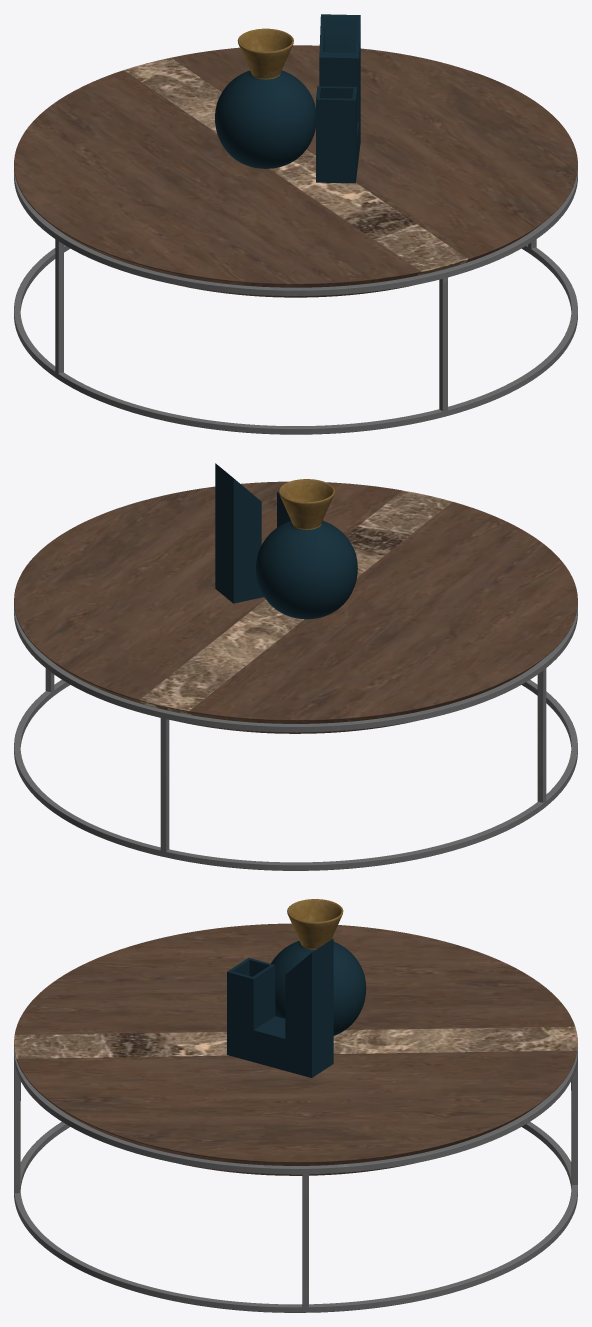
Rendered from coffee_table_giotto_c_digital_mhc.glb.
The picture shows the model from 3 angles, top to bottom: view 1: azimuth 30°, elevation 25°; view 2: azimuth 150°, elevation 25°; view 3: azimuth 270°, elevation 25°; orthographic projection.
Visible parts, largest first — view 1: 1_low_Giotto-C_0, Vase_cyan_small.001_Ceramic_dark_cyan.001_0, Vase_6_cyan.001_Ceramic_dark_cyan.002_0, Vase_cyan_small.001_Nickel_chrome.002_0; view 2: 1_low_Giotto-C_0, Vase_cyan_small.001_Ceramic_dark_cyan.001_0, Vase_6_cyan.001_Ceramic_dark_cyan.002_0, Vase_cyan_small.001_Nickel_chrome.002_0; view 3: 1_low_Giotto-C_0, Vase_6_cyan.001_Ceramic_dark_cyan.002_0, Vase_cyan_small.001_Ceramic_dark_cyan.001_0, Vase_cyan_small.001_Nickel_chrome.002_0.
Part boxes in pixels (x1=…): 1_low_Giotto-C_0: x1=14, y1=45, x2=577, y2=434; Vase_cyan_small.001_Ceramic_dark_cyan.001_0: x1=215, y1=70, x2=315, y2=168; Vase_6_cyan.001_Ceramic_dark_cyan.002_0: x1=316, y1=14, x2=360, y2=183; Vase_cyan_small.001_Nickel_chrome.002_0: x1=237, y1=28, x2=293, y2=79; 1_low_Giotto-C_0: x1=14, y1=481, x2=577, y2=870; Vase_cyan_small.001_Ceramic_dark_cyan.001_0: x1=256, y1=521, x2=357, y2=619; Vase_6_cyan.001_Ceramic_dark_cyan.002_0: x1=215, y1=463, x2=323, y2=603; Vase_cyan_small.001_Nickel_chrome.002_0: x1=278, y1=479, x2=334, y2=529; 1_low_Giotto-C_0: x1=14, y1=923, x2=577, y2=1312; Vase_6_cyan.001_Ceramic_dark_cyan.002_0: x1=227, y1=938, x2=333, y2=1077; Vase_cyan_small.001_Ceramic_dark_cyan.001_0: x1=271, y1=940, x2=366, y2=1035; Vase_cyan_small.001_Nickel_chrome.002_0: x1=287, y1=899, x2=343, y2=949.
Bounding box in the file's own units: 120 × 65 × 120.
Materials: 4 (2 with a texture image).
